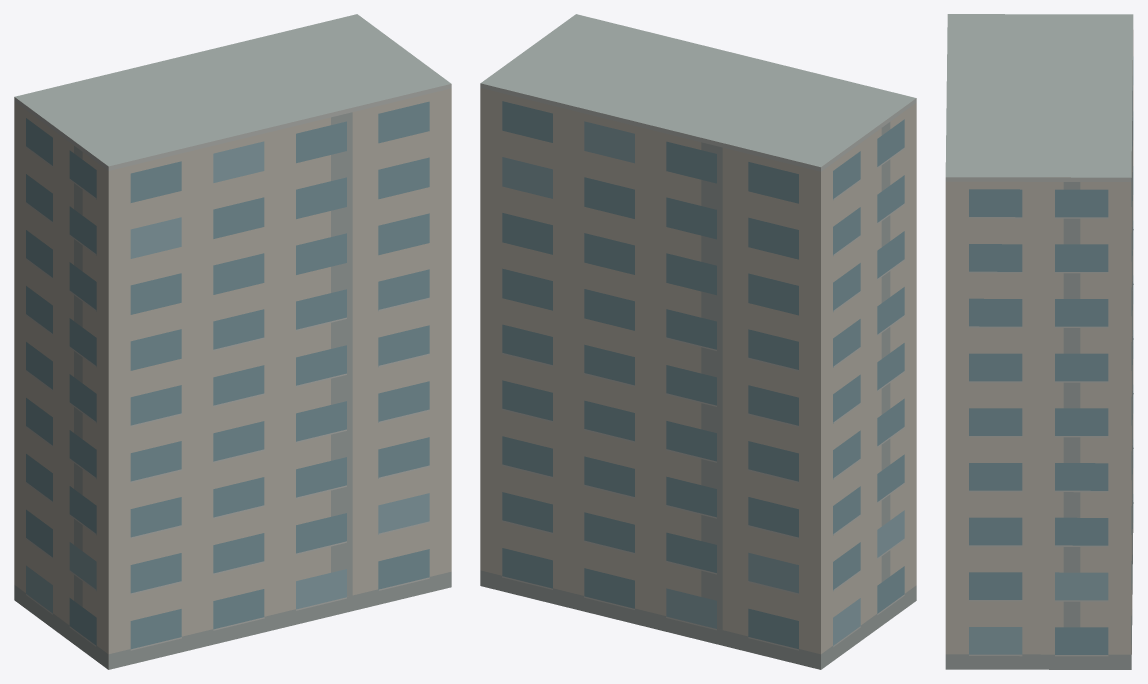
The model's file is residential-301f4905-1b9d-4cf2-98f7-32686f66a803.glb.
3 views of the same model, side by side, from view 1: azimuth 30°, elevation 25°; view 2: azimuth 150°, elevation 25°; view 3: azimuth 270°, elevation 25° (orthographic). The views are drawn at different scales.
Parts seen in each view (by area): view 1: residential-301f4905-1b9d-4cf2-98f7-32686f66a803.tmp; view 2: residential-301f4905-1b9d-4cf2-98f7-32686f66a803.tmp; view 3: residential-301f4905-1b9d-4cf2-98f7-32686f66a803.tmp.
Part boxes in pixels (x1,y1,x2,y2): residential-301f4905-1b9d-4cf2-98f7-32686f66a803.tmp: (14, 14, 451, 669); residential-301f4905-1b9d-4cf2-98f7-32686f66a803.tmp: (480, 14, 916, 669); residential-301f4905-1b9d-4cf2-98f7-32686f66a803.tmp: (945, 14, 1133, 669).
Bounding box in the file's own units: 19.25 × 27 × 9.34.
